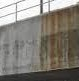Corrosion: (40, 4, 79, 71)
